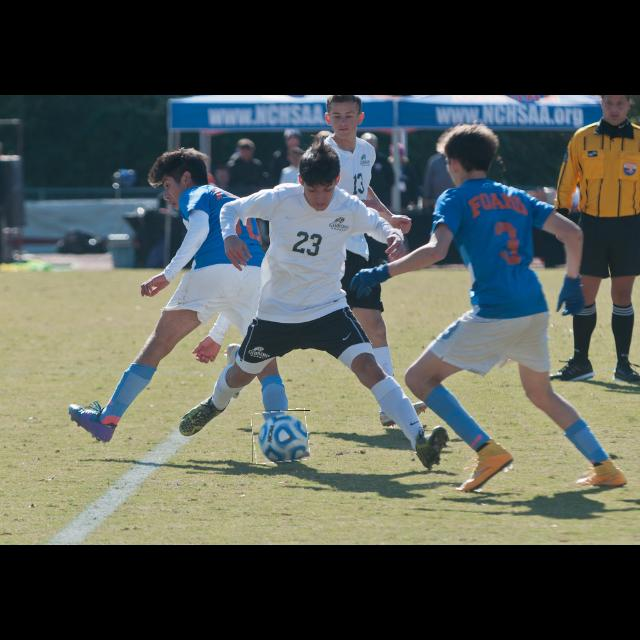Football: (252, 410, 310, 462)
